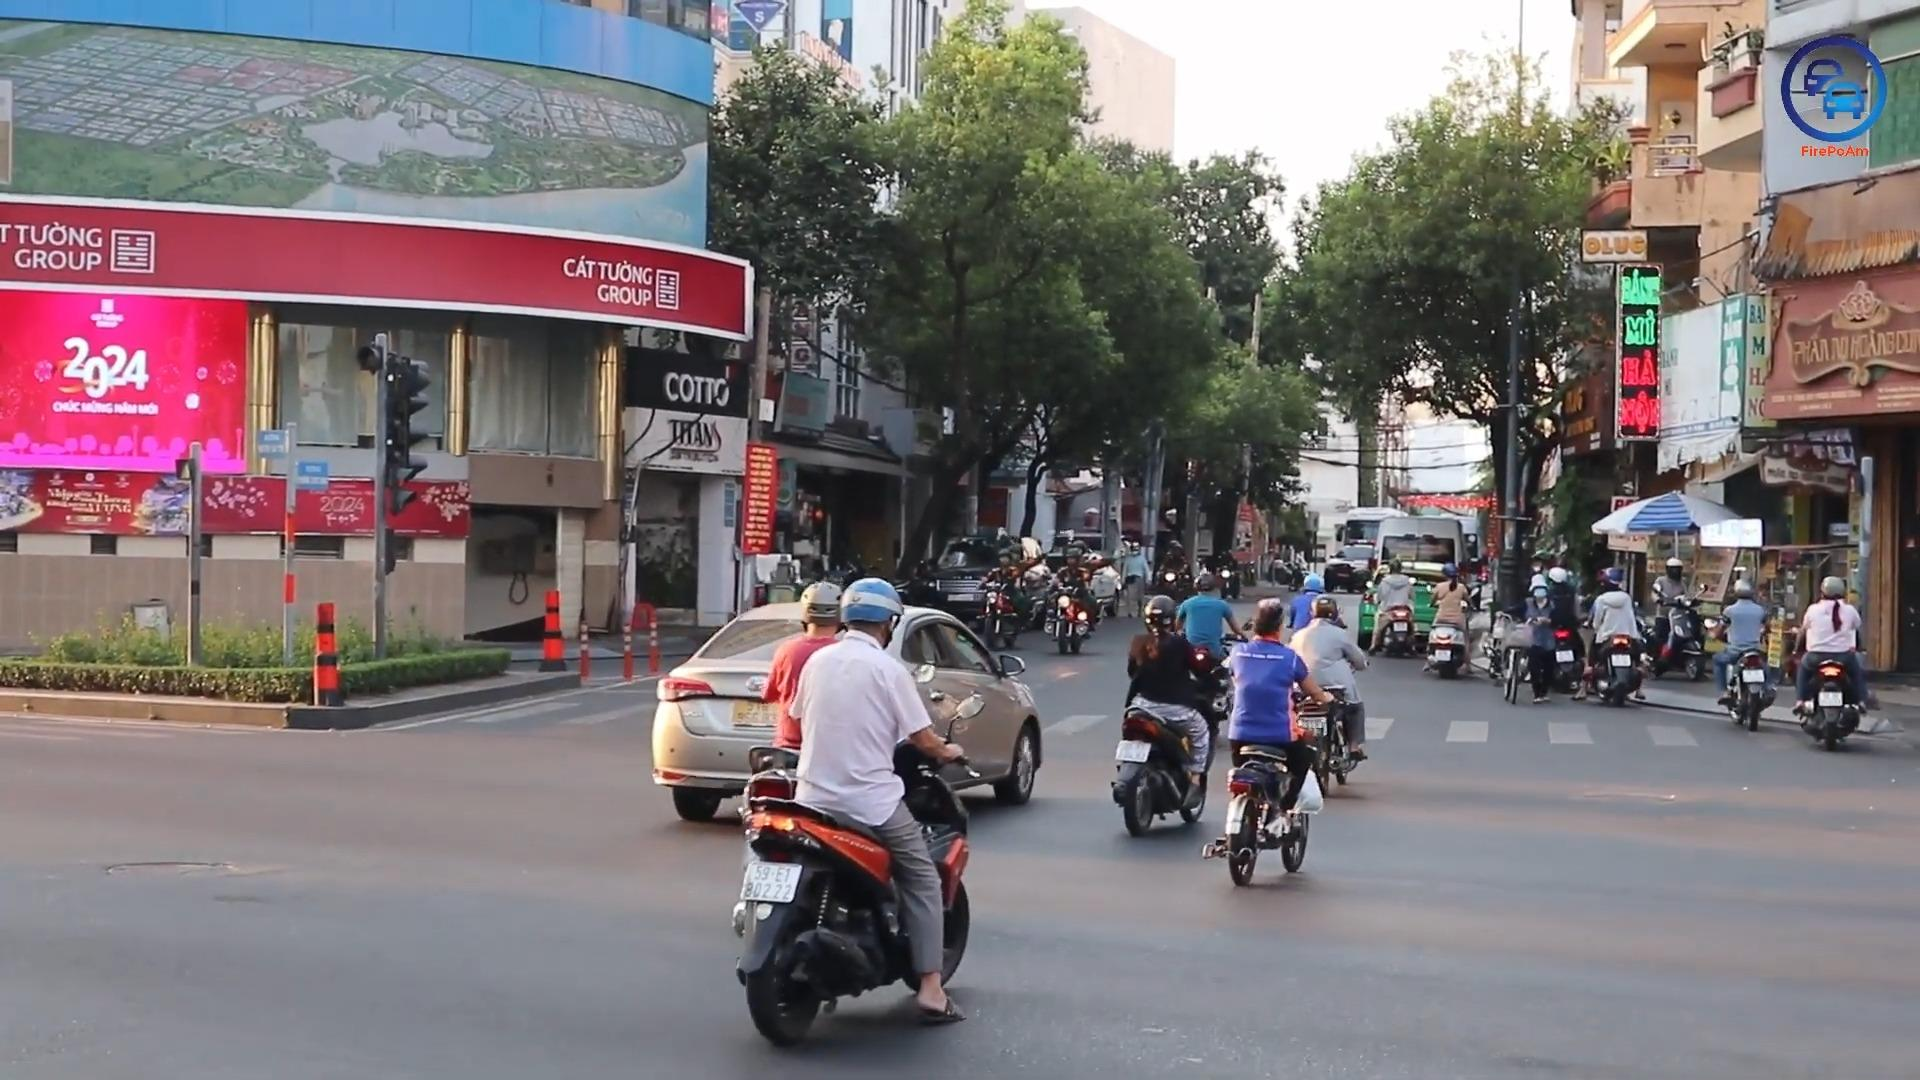bien_so: (739, 860, 804, 903), (731, 698, 782, 729), (1114, 739, 1152, 763), (1818, 691, 1844, 707), (1742, 668, 1765, 685), (1610, 653, 1632, 668), (1555, 649, 1575, 663), (1434, 649, 1451, 662), (1393, 621, 1409, 633)
